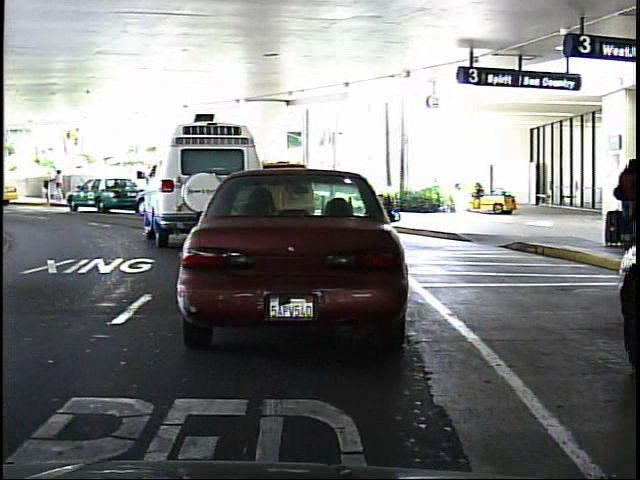person: (50, 162, 64, 202), (54, 166, 68, 203)
